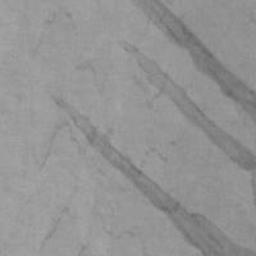Water spot: (51, 92, 256, 256), (118, 38, 256, 218), (136, 0, 256, 125)
